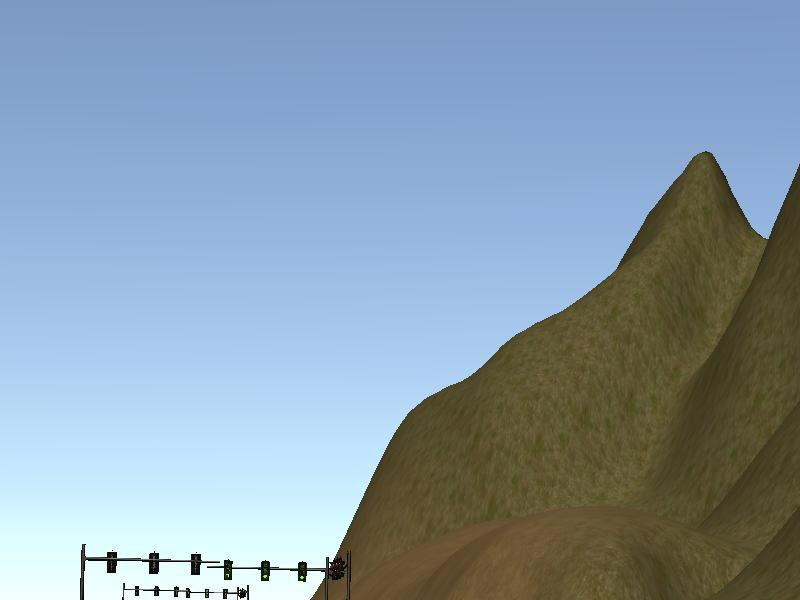Green: (223, 558, 233, 581), (260, 559, 270, 580), (298, 563, 307, 581)
